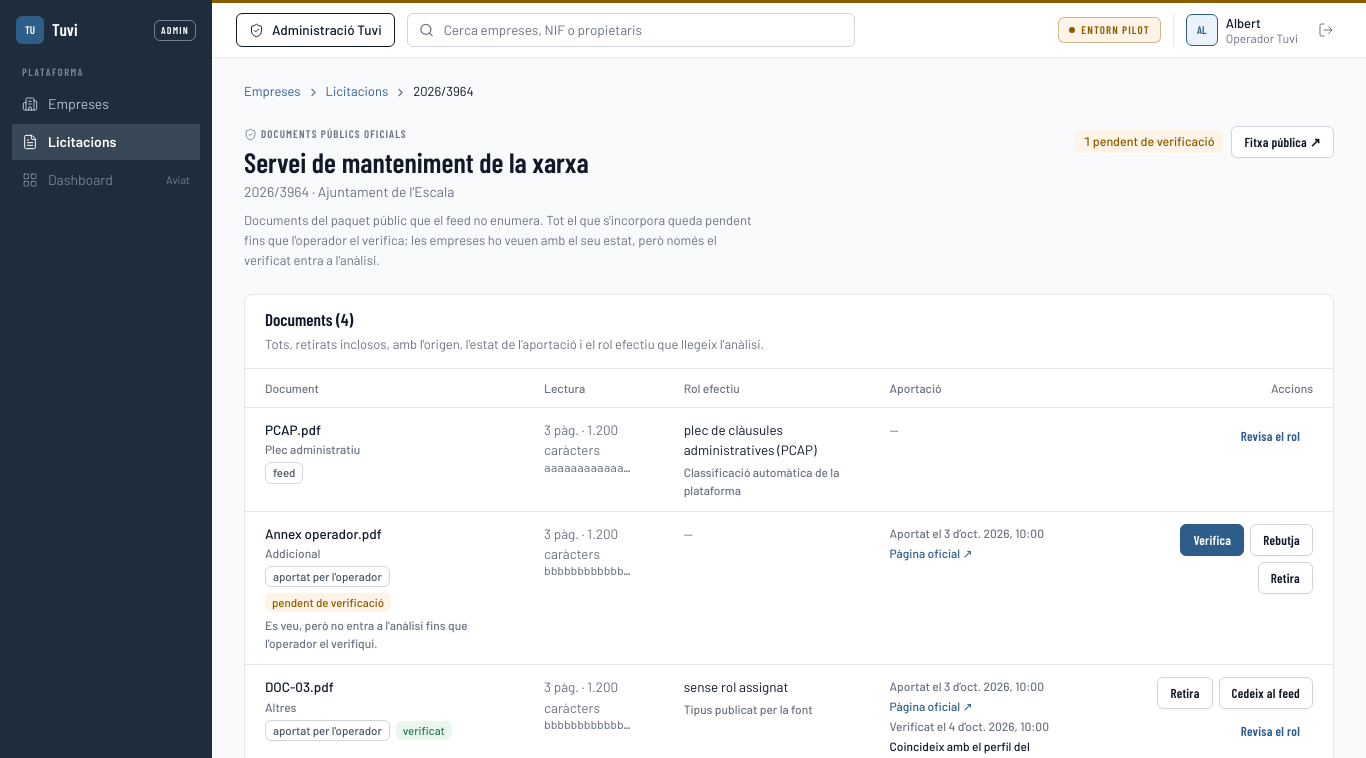
it: Administració Tuvi · documents públics d'una licitació › cedir al feed demana motiu, i un 409 del servidor es mostra en humà
Click the button "Cedeix al feed": (1266, 693) x1=1219 y1=677 x2=1313 y2=709
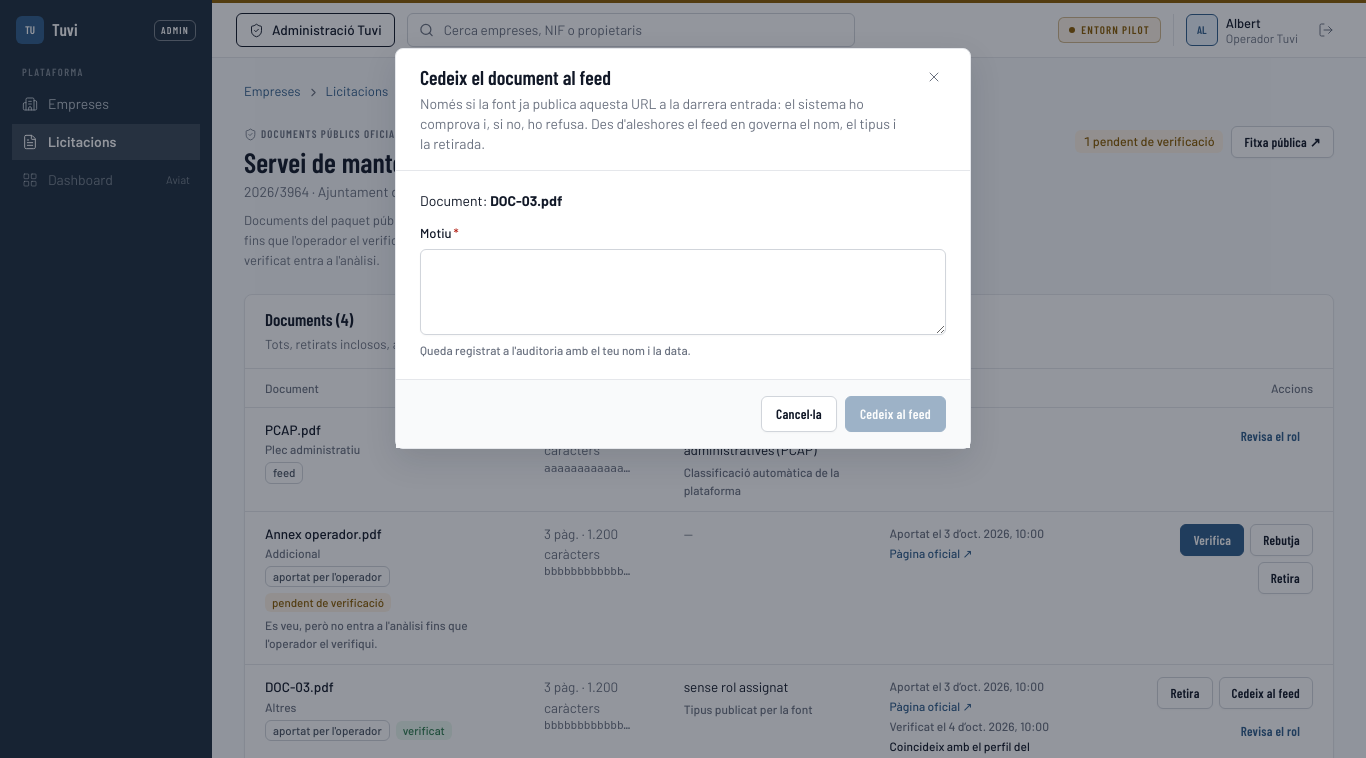
In the text box labelled "Motiu": (683, 292) x1=420 y1=249 x2=946 y2=335, type "El feed ja la publica."
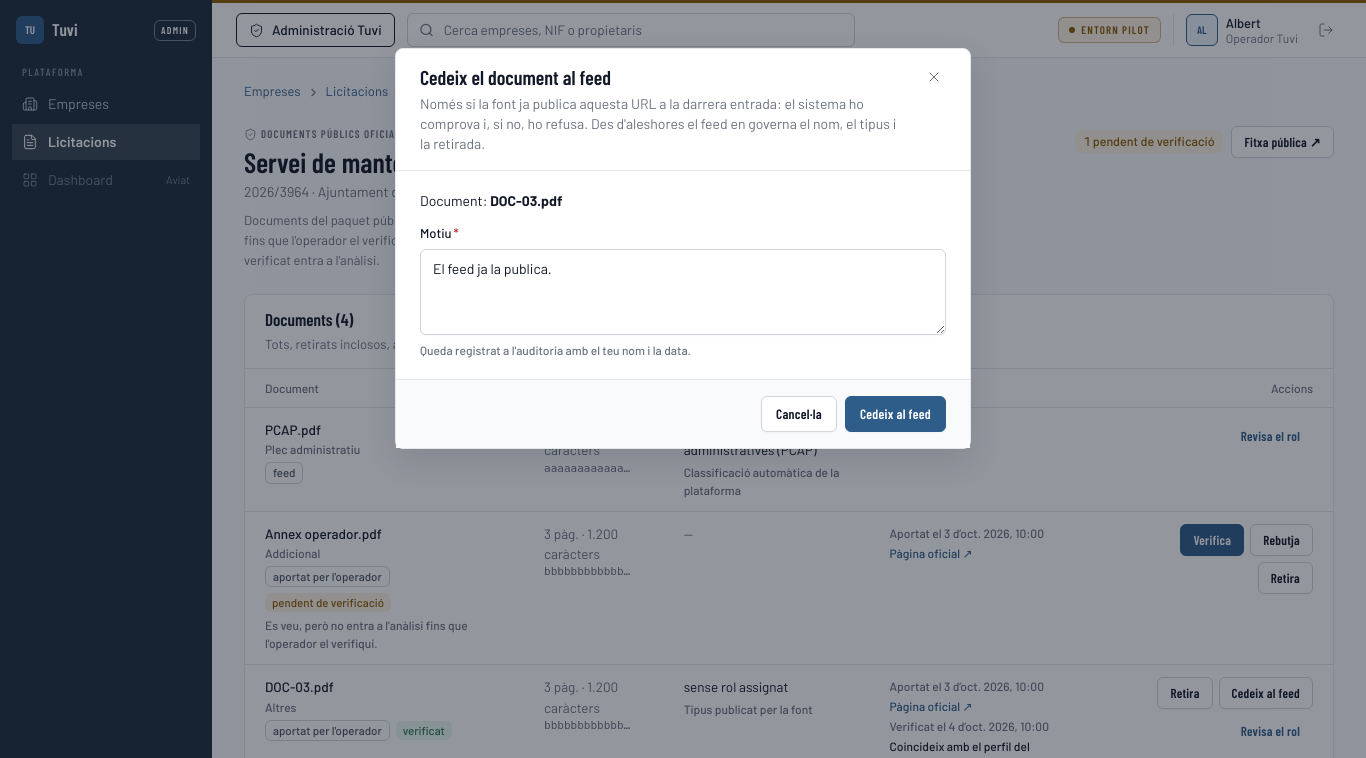
Click the button "Cedeix al feed": (895, 414) x1=845 y1=396 x2=946 y2=432
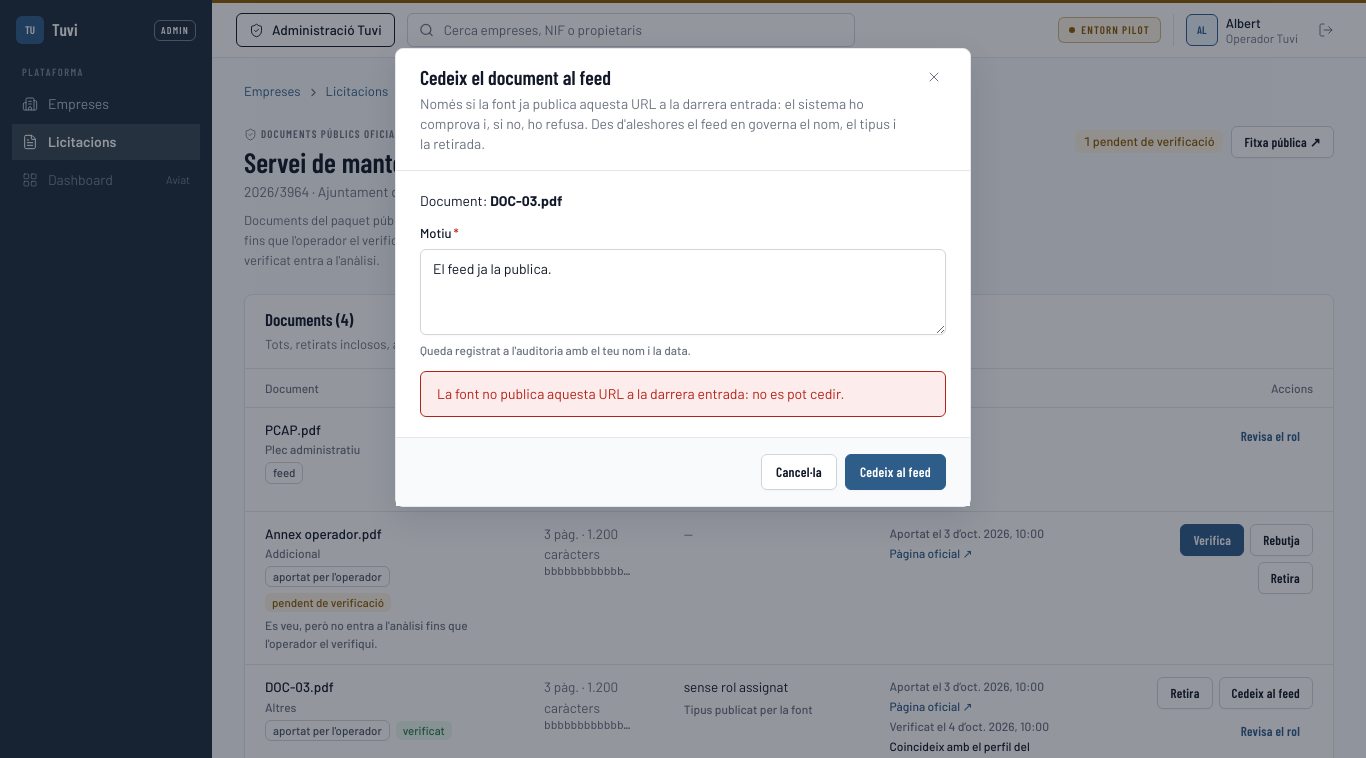
Expected: the text "La font no publica aquesta URL a la darrera entrada: no es pot cedir." is shown, x1=437 y1=384 x2=844 y2=404
